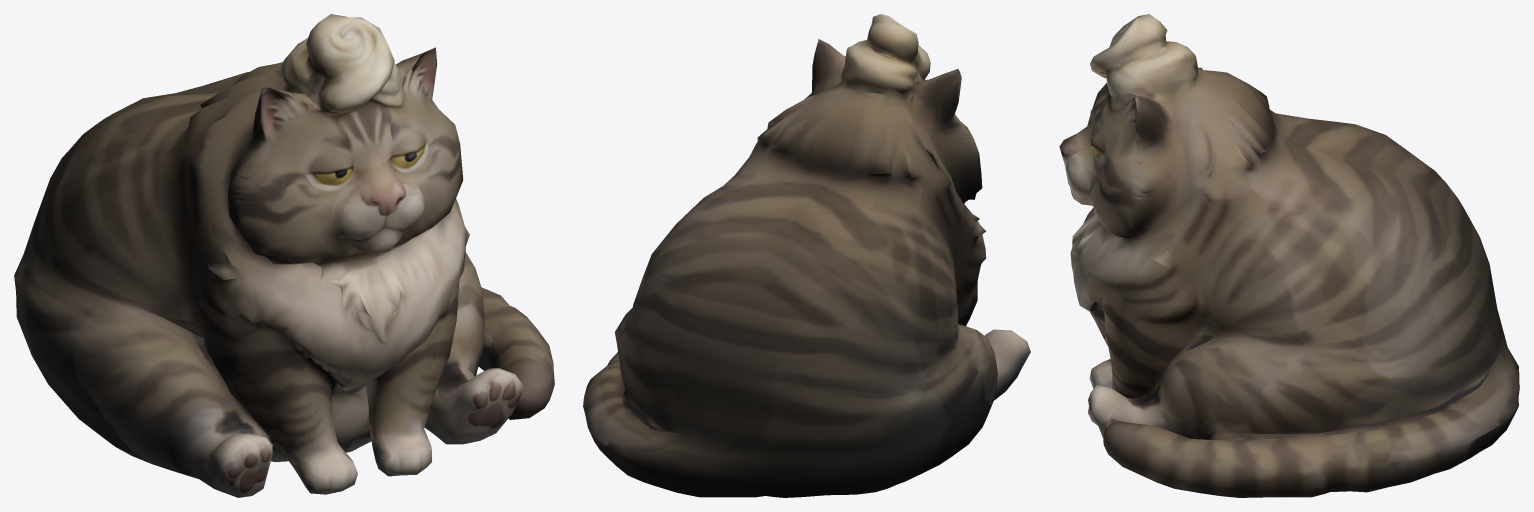
Rendered from Cat_Lord.glb.
3 views of the same model, side by side, from view 1: azimuth 30°, elevation 25°; view 2: azimuth 150°, elevation 25°; view 3: azimuth 270°, elevation 25° (orthographic). The views are drawn at different scales.
Visible parts, largest first — view 1: world; view 2: world; view 3: world.
Part boxes in pixels (x1=…): world: x1=14, y1=14, x2=554, y2=497; world: x1=583, y1=14, x2=1030, y2=497; world: x1=1059, y1=14, x2=1519, y2=497.
Size of the model in its own units: 0.2895 by 0.2804 by 0.3.
1 material, 1 textured.
